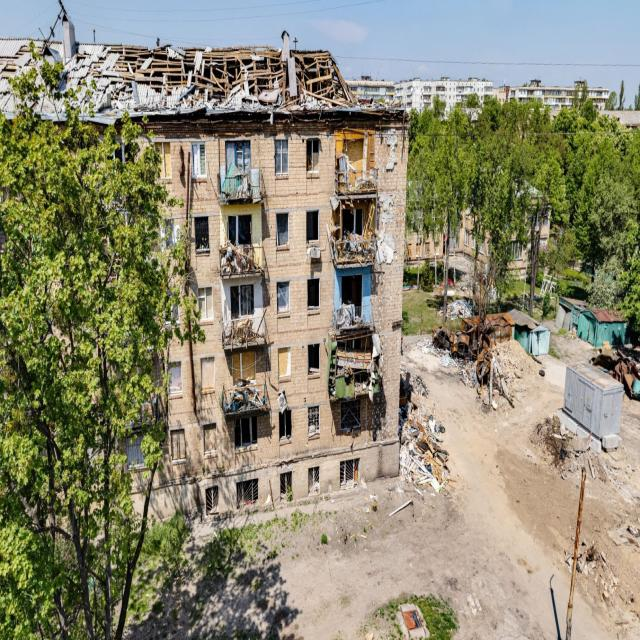broken_window: (190, 142, 207, 181), (274, 137, 288, 178), (194, 216, 209, 254), (200, 356, 215, 394), (166, 361, 182, 396), (306, 137, 320, 176), (170, 428, 186, 462), (276, 211, 290, 249), (276, 280, 290, 315), (306, 278, 320, 310), (307, 405, 320, 439), (306, 210, 319, 243), (307, 343, 320, 375)
building: (1, 24, 412, 544)
roof: (1, 35, 407, 133)
